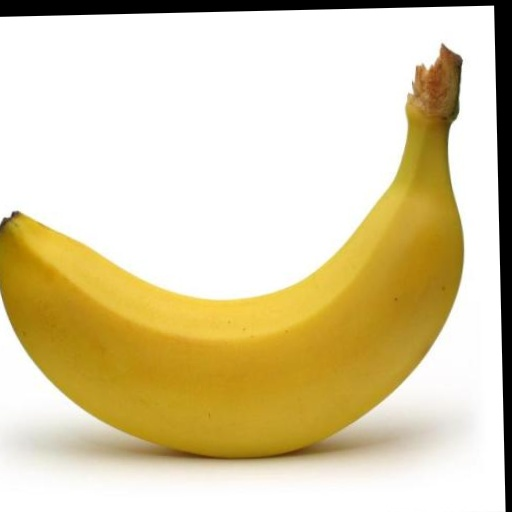fruit: (0, 47, 462, 457)
